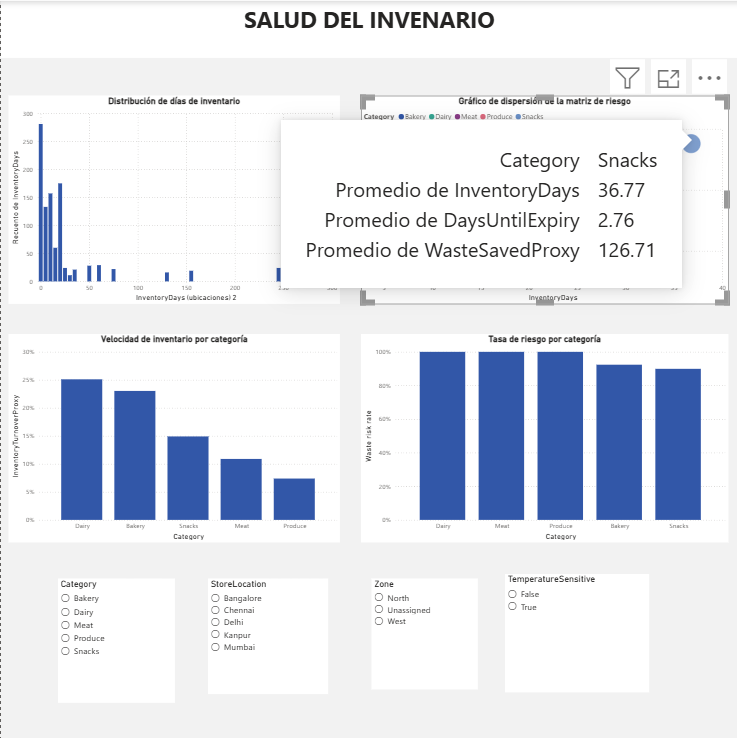

This screenshot's page, from the dashboard's own definition file:
{"tool":"powerbi","page":{"name":"Salud del inventario","canvas":[1400,1400],"ordinal":2},"visuals":[{"type":"listSlicer","fields":{"Values":["Smart_waste_decision_engine.Category"]},"box":[107.5,1089.6,220.8,234.9],"z":0},{"type":"listSlicer","fields":{"Values":["Smart_waste_decision_engine.StoreLocation"]},"box":[390.6,1089.6,226.4,217.9],"z":1000},{"type":"listSlicer","fields":{"Values":["Smart_waste_decision_engine.Zone"]},"box":[699.1,1089.6,200.9,209.4],"z":2000},{"type":"columnChart","title":"Distribución de días  de inventario","fields":{"Y":["CountNonNull(Smart_waste_decision_engine.InventoryDays)"],"Category":["Smart_waste_decision_engine.InventoryDays (ubicaciones) 2"]},"box":[14.2,178.3,625.5,393.4],"z":3000},{"type":"scatterChart","title":"Gráfico de dispersión de la matriz de riesgo","fields":{"X":["Avg(Smart_waste_decision_engine.InventoryDays)"],"Y":["Avg(Smart_waste_decision_engine.DaysUntilExpiry)"],"Size":["Avg(Smart_waste_decision_engine.WasteSavedProxy)"],"Series":["Smart_waste_decision_engine.Category"]},"box":[679.3,178.3,693.4,393.4],"z":4000},{"type":"columnChart","title":"Velocidad de inventario por categoría","fields":{"Category":["Smart_waste_decision_engine.Category"],"Y":["Avg(Smart_waste_decision_engine.InventoryTurnOverProxy)"]},"box":[14.2,628.3,625.5,393.4],"z":5000},{"type":"columnChart","title":"Tasa de riesgo por categoría","fields":{"Category":["Smart_waste_decision_engine.Category"],"Y":["Smart_waste_decision_engine.Waste risk rate"]},"box":[679.3,628.3,693.4,393.4],"z":6000},{"type":"listSlicer","fields":{"Values":["Smart_waste_decision_engine.TemperatureSensitive"]},"box":[951,1081.2,271.7,223.6],"z":7000},{"type":"textbox","box":[0,0,1401,107.5],"z":8000}]}

Visuals, with their boxes in screenshot pixels (x1, y1, x2, y2), scaled from the page's 1400x1400 canvas onto the 737x738 screenshot:
listSlicer - Smart_waste_decision_engine.Category: (57,574,173,698)
listSlicer - Smart_waste_decision_engine.StoreLocation: (206,574,325,689)
listSlicer - Smart_waste_decision_engine.Zone: (368,574,474,685)
"Distribución de días  de inventario" columnChart: (7,94,337,301)
"Gráfico de dispersión de la matriz de riesgo" scatterChart: (358,94,723,301)
"Velocidad de inventario por categoría" columnChart: (7,331,337,539)
"Tasa de riesgo por categoría" columnChart: (358,331,723,539)
listSlicer - Smart_waste_decision_engine.TemperatureSensitive: (501,570,644,688)
textbox: (0,0,736,57)
